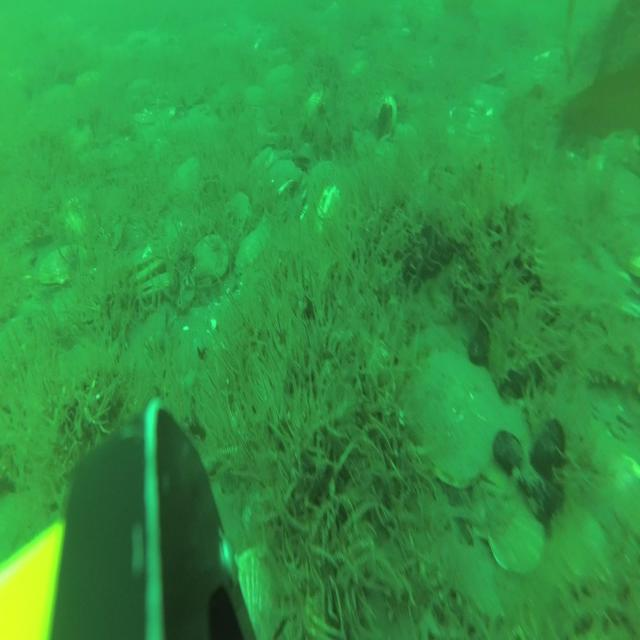holothurian: (579, 338, 640, 395)
scallop: (411, 347, 501, 493), (487, 498, 547, 580), (478, 400, 528, 498), (556, 498, 611, 582), (240, 548, 288, 638), (606, 448, 640, 541), (192, 230, 230, 284), (220, 187, 253, 241), (264, 161, 301, 207), (40, 247, 83, 286), (171, 154, 203, 200), (240, 222, 268, 273), (311, 160, 343, 204), (136, 275, 172, 312), (128, 261, 164, 290), (249, 148, 277, 182), (304, 88, 324, 120), (126, 251, 153, 274), (245, 83, 267, 109)
